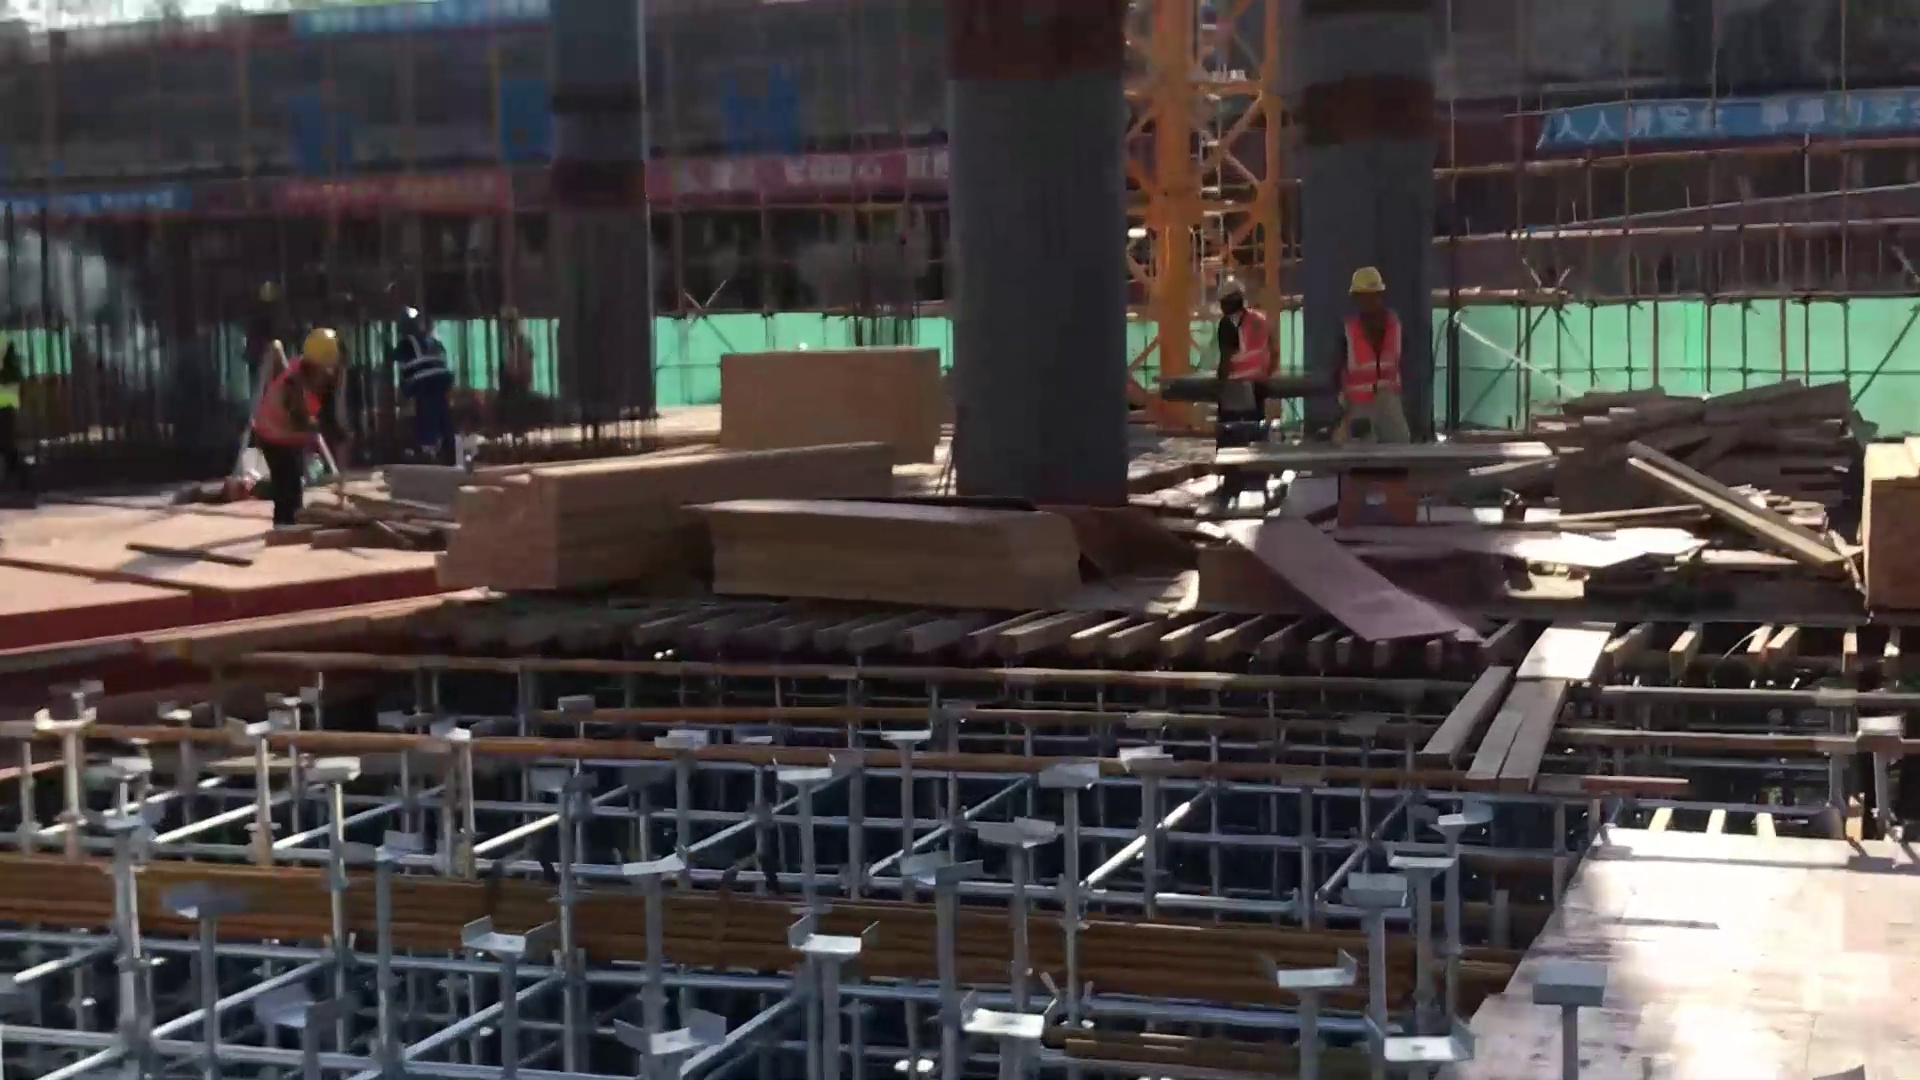helmet: (1336, 247, 1424, 300), (377, 299, 440, 343), (1208, 266, 1246, 296)
person: (397, 296, 463, 461), (500, 301, 550, 443)
vest: (255, 366, 332, 445), (1342, 310, 1406, 392), (1220, 307, 1267, 379), (397, 337, 451, 393)
